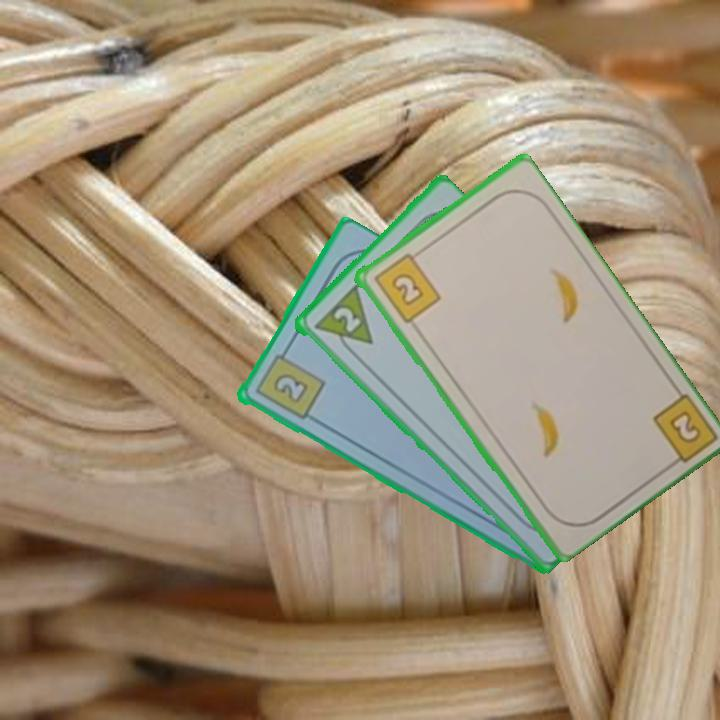2b: (251, 344, 327, 423), (369, 247, 443, 326), (648, 389, 717, 473)
2p: (329, 303, 364, 336)
